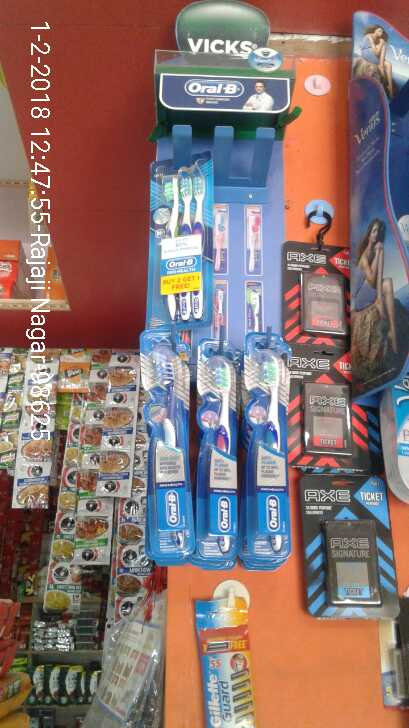oralb: (244, 351, 298, 566), (138, 347, 190, 534), (152, 163, 209, 325), (201, 352, 235, 548)
